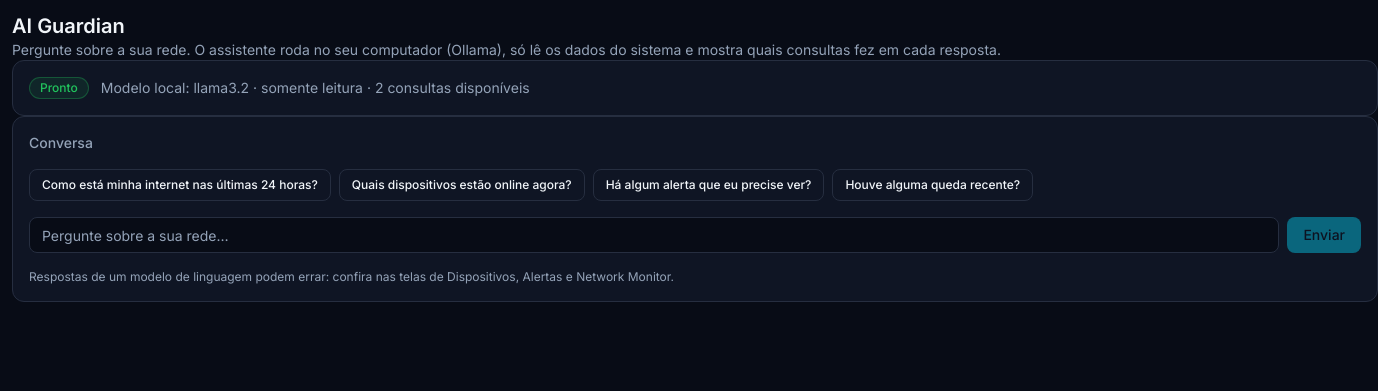
Guardian › envia pergunta, mostra a resposta e as consultas feitas
The image size is (1378, 391).
Later steps or results of the test are not shown.
Expected: the text "Pronto" is shown, [29,77,89,99]
Type "Como está a internet?" into the field named "Pergunta".
click(654, 235); type("Como está a internet?")  # box [29,217,1279,253]
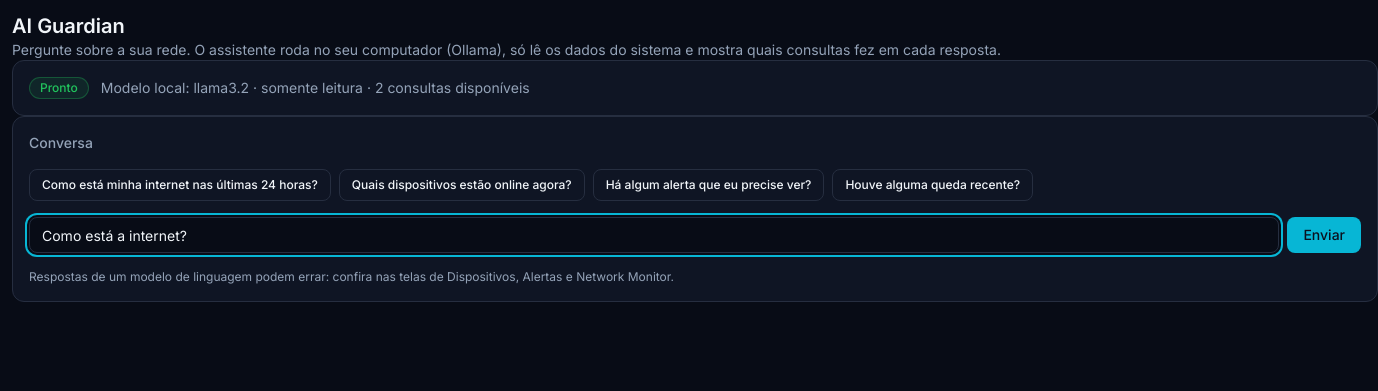
Click the button "Enviar".
click(1324, 235)  # box [1287,217,1361,253]
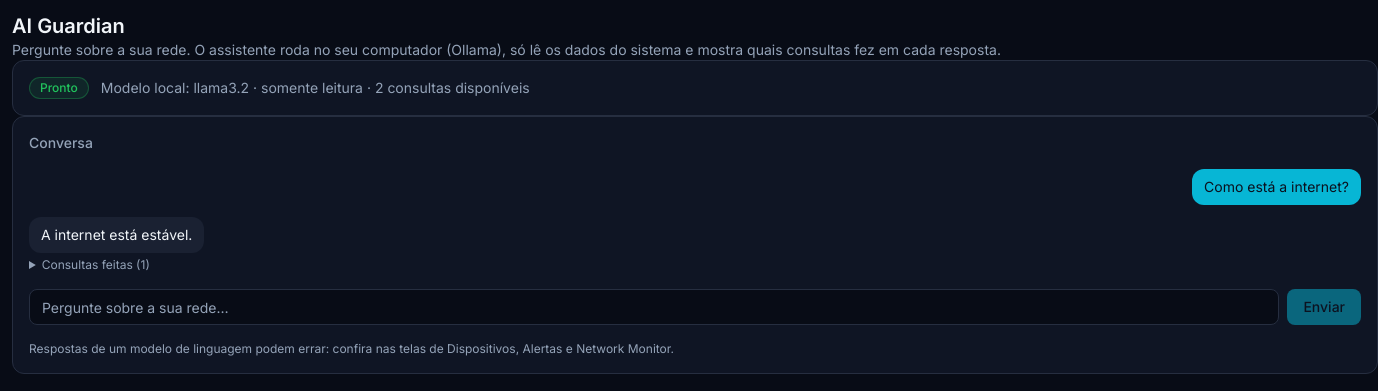
Result: the text "A internet está estável." is shown at [29,217,204,253]
Result: the heading "Consultas feitas (1)" is shown at [42,257,150,272]
